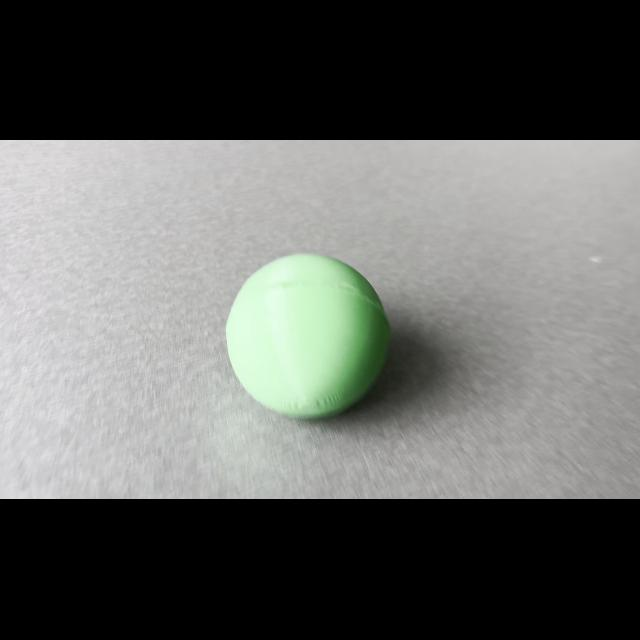objects: (220, 245, 400, 430)
